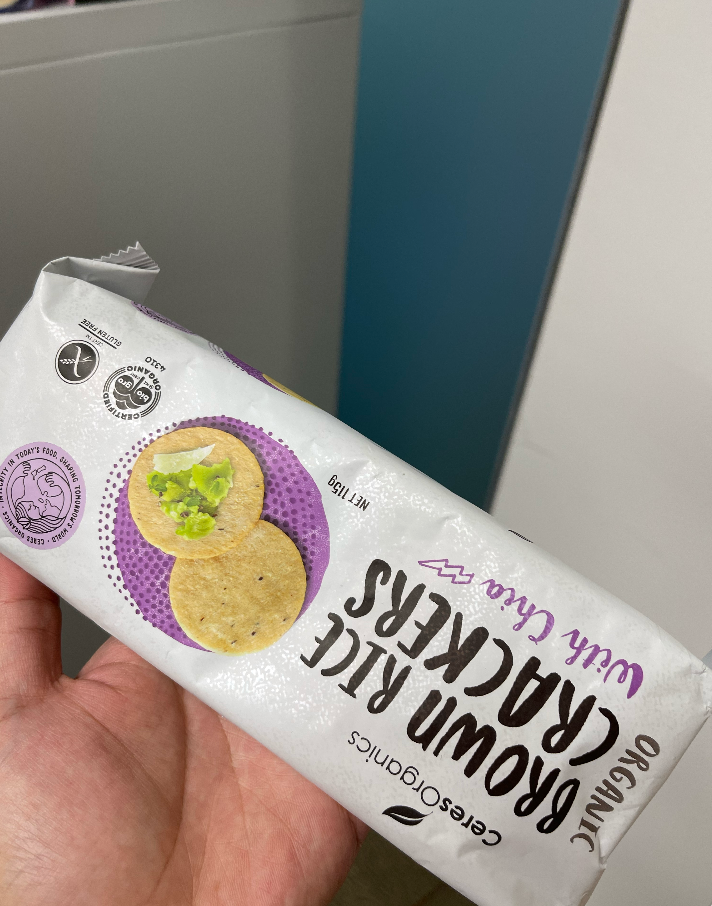crackers_100g-199g: (74, 363, 577, 855)
